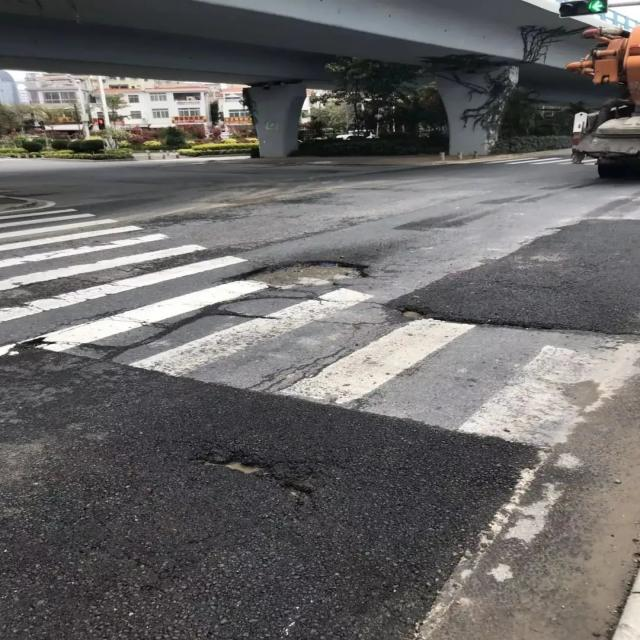Pothole: (191, 446, 309, 494), (230, 256, 373, 288), (386, 300, 435, 324)
